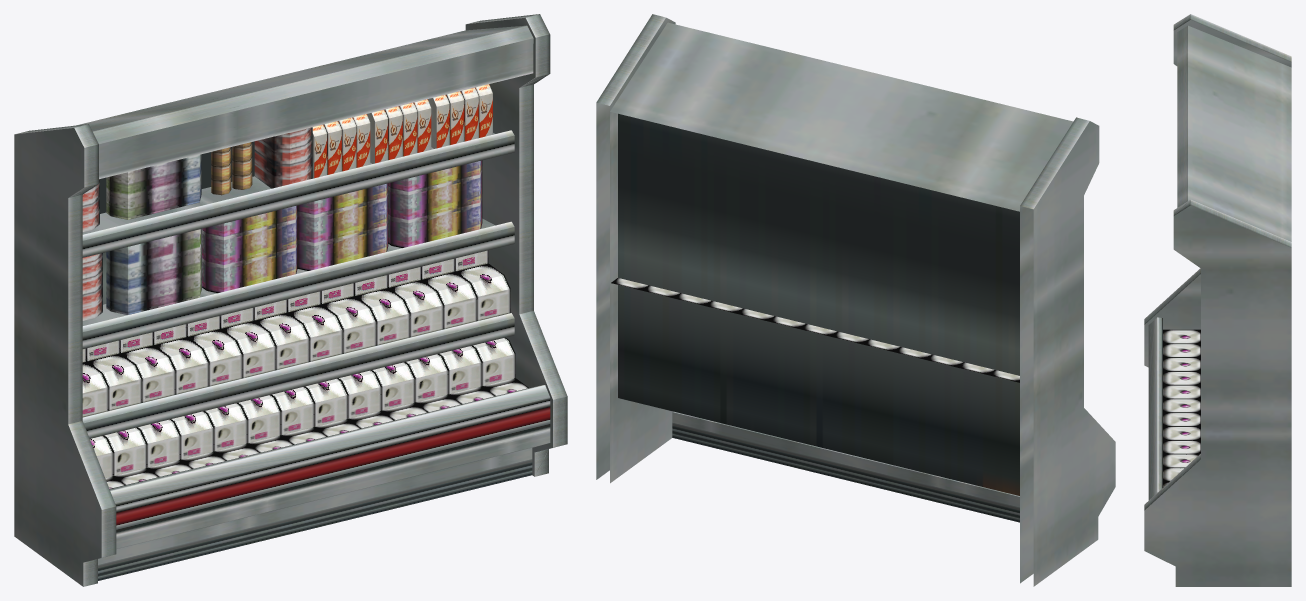
File: dairy_shelves.fbx
3 renders of one model, left to right at view 1: azimuth 30°, elevation 25°; view 2: azimuth 150°, elevation 25°; view 3: azimuth 270°, elevation 25°, orthographic. The views are drawn at different scales.
Visible parts, largest first — view 1: mesh_4, mesh_6, mesh_0, mesh_5, mesh_2, mesh_8, mesh_7, mesh_3, mesh_9, mesh_32, mesh_31, mesh_27 (+14 smaller); view 2: mesh_0, mesh_6, mesh_5, mesh_4, mesh_10; view 3: mesh_5, mesh_0, mesh_1, mesh_6, mesh_4.
Boxes of the visible parts, x1,y1,x2,y2 form: mesh_4: (98, 385, 550, 580); mesh_6: (14, 124, 116, 586); mesh_0: (77, 25, 533, 304); mesh_5: (465, 14, 567, 476); mesh_2: (82, 263, 510, 392); mesh_8: (82, 130, 514, 257); mesh_7: (82, 218, 514, 348); mesh_3: (82, 289, 510, 417); mesh_9: (82, 313, 514, 438); mesh_32: (97, 354, 515, 477); mesh_31: (90, 337, 515, 455); mesh_27: (202, 205, 297, 293); mesh_0: (610, 22, 1073, 495); mesh_6: (1020, 117, 1115, 586); mesh_5: (596, 14, 675, 483); mesh_4: (672, 411, 1019, 522); mesh_10: (611, 278, 1019, 382); mesh_5: (1144, 199, 1291, 586); mesh_0: (1177, 25, 1291, 241); mesh_1: (1163, 329, 1200, 487); mesh_6: (1144, 14, 1291, 367); mesh_4: (1148, 317, 1162, 500).
Bounding box in the file's own units: 320 × 297 × 104.
